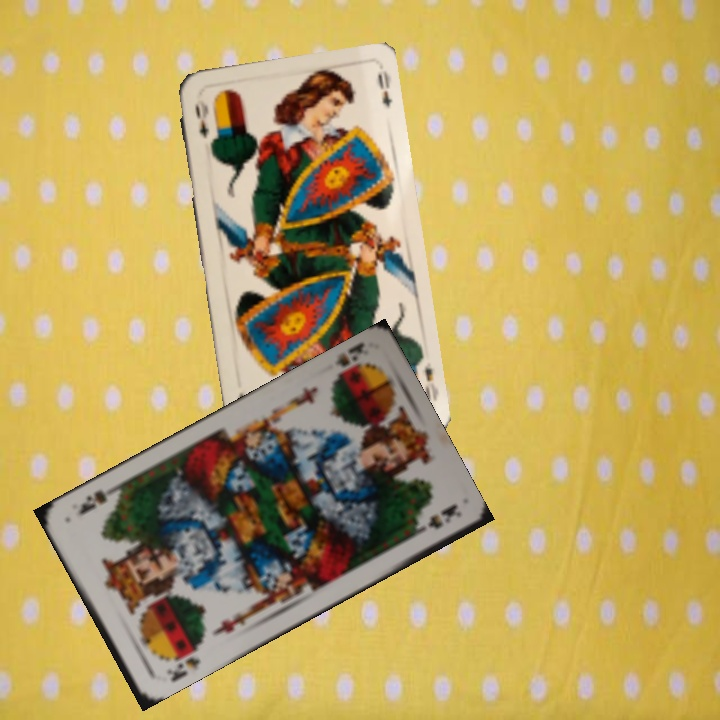EO: (420, 358, 441, 405), (191, 95, 211, 141)
SK: (162, 653, 203, 685), (331, 339, 367, 370)
